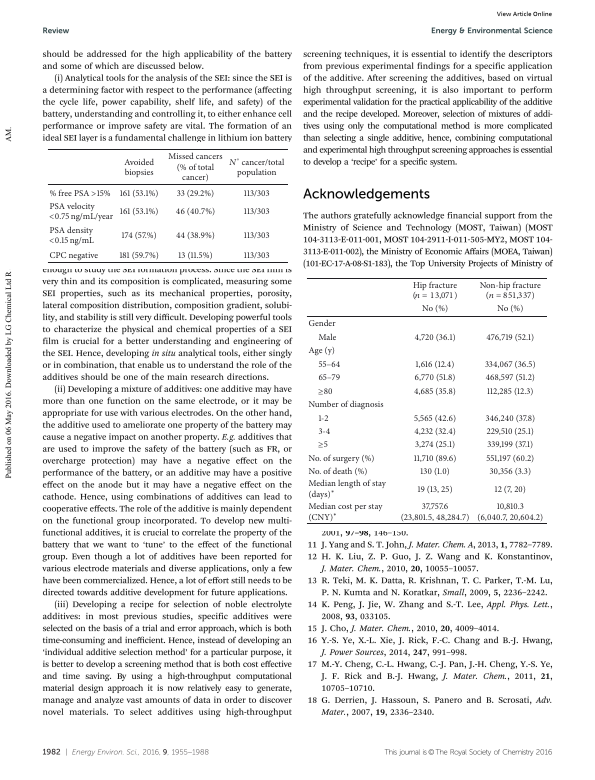borderless: (305, 276, 547, 523), (46, 147, 288, 262)
cell: (167, 152, 224, 183), (307, 478, 387, 500), (307, 501, 383, 523), (400, 501, 470, 523), (48, 201, 114, 224), (476, 501, 544, 523), (479, 280, 542, 303), (228, 153, 285, 178), (48, 225, 95, 248), (412, 280, 458, 303), (48, 184, 112, 200), (307, 399, 385, 410), (307, 453, 375, 463), (123, 157, 155, 178), (307, 466, 368, 477), (484, 359, 537, 370), (484, 413, 536, 424), (48, 250, 99, 261), (485, 332, 535, 343), (486, 426, 535, 437), (485, 373, 536, 383), (485, 453, 535, 463), (413, 332, 457, 343), (413, 413, 457, 424), (413, 426, 457, 437), (488, 466, 532, 477), (486, 386, 534, 396), (486, 440, 534, 450), (118, 250, 160, 261), (175, 206, 216, 217), (175, 230, 216, 241), (119, 206, 159, 217), (415, 359, 455, 370), (413, 386, 457, 396), (413, 453, 457, 463), (414, 373, 456, 383), (414, 440, 456, 450), (121, 230, 158, 241), (177, 250, 214, 261), (119, 188, 159, 198), (176, 188, 215, 198), (416, 484, 454, 494), (419, 466, 451, 477), (307, 318, 337, 329), (494, 484, 527, 494), (307, 345, 336, 356), (243, 206, 271, 217), (243, 230, 271, 241), (243, 250, 271, 261), (243, 188, 271, 198), (421, 304, 449, 314), (496, 304, 524, 314), (317, 359, 341, 370), (317, 373, 341, 383), (317, 383, 333, 398), (317, 332, 337, 343), (317, 436, 329, 452), (317, 426, 331, 437), (317, 413, 329, 424)
